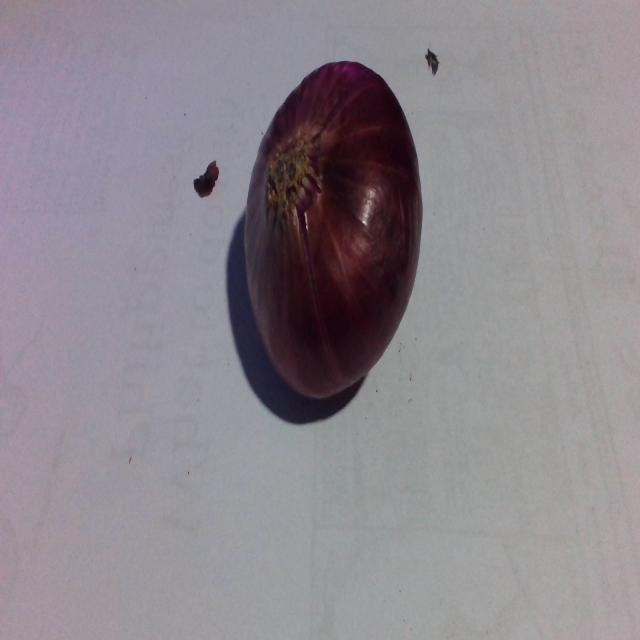onion: (226, 46, 434, 442)
